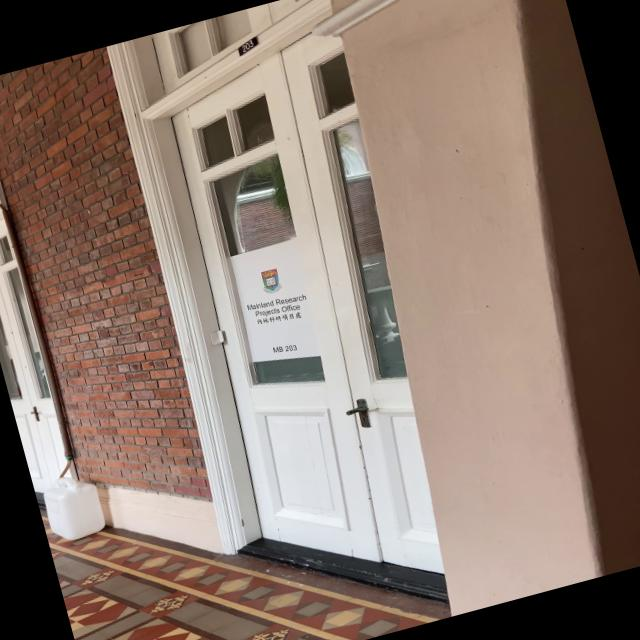room203Window: (268, 338, 300, 358)
